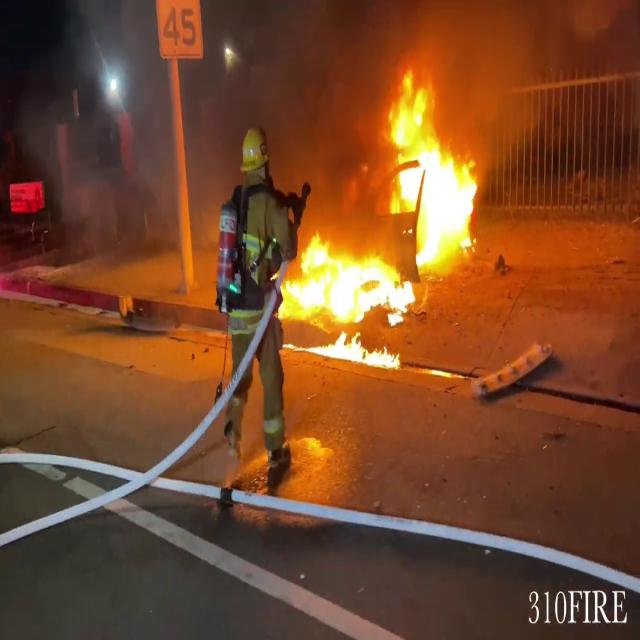Fire: (376, 70, 486, 268), (278, 231, 420, 367)
